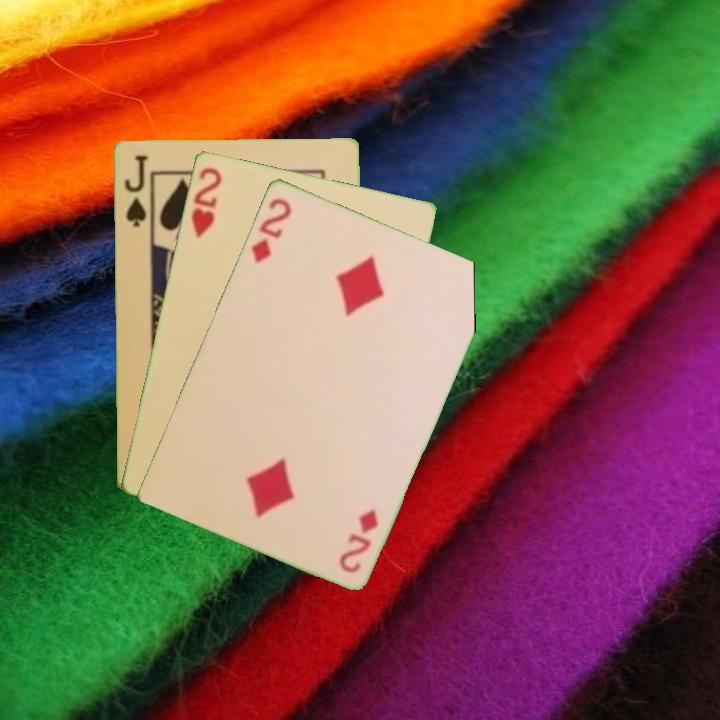2d: (248, 193, 294, 266), (335, 505, 381, 576)
2h: (187, 163, 224, 240)
Js: (120, 151, 150, 229)
